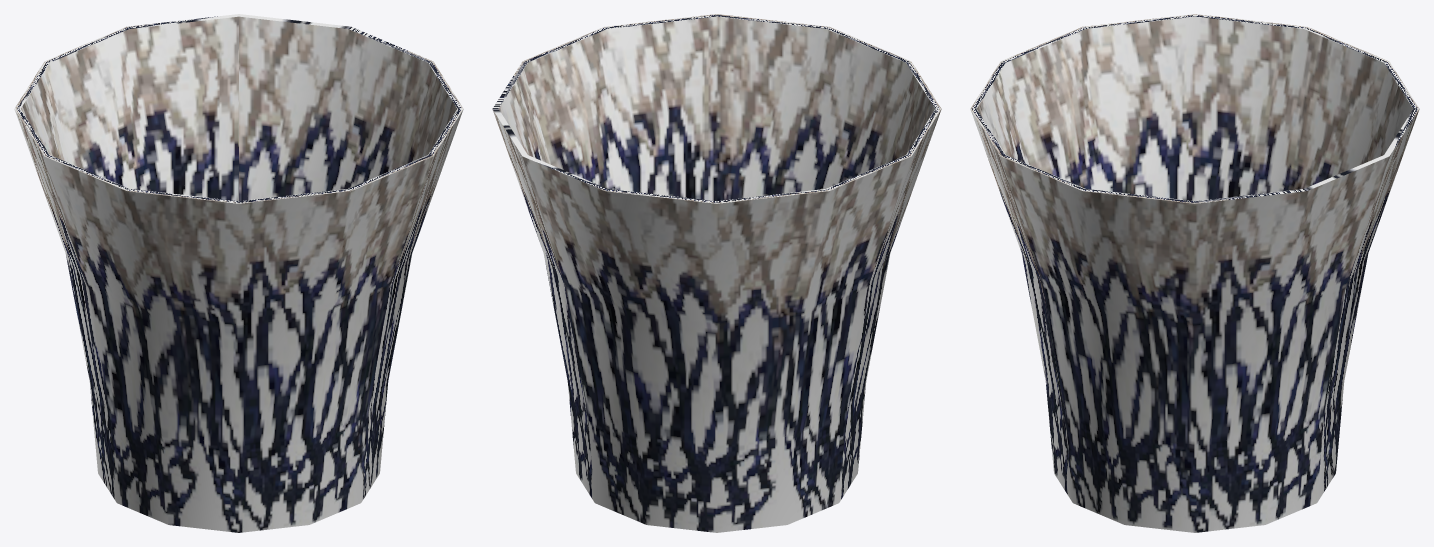
File: Rede.FBX
The picture shows the model from 3 angles, left to right: view 1: azimuth 30°, elevation 25°; view 2: azimuth 150°, elevation 25°; view 3: azimuth 270°, elevation 25°; orthographic projection.
Visible parts, largest first — view 1: Cylinder001; view 2: Cylinder001; view 3: Cylinder001.
Part boxes in pixels (box(x1,y1,x2,y2)): Cylinder001: box(14, 14, 463, 532); Cylinder001: box(492, 14, 941, 532); Cylinder001: box(970, 14, 1419, 532).
Bounding box in the file's own units: 44.68 × 40 × 44.68.
